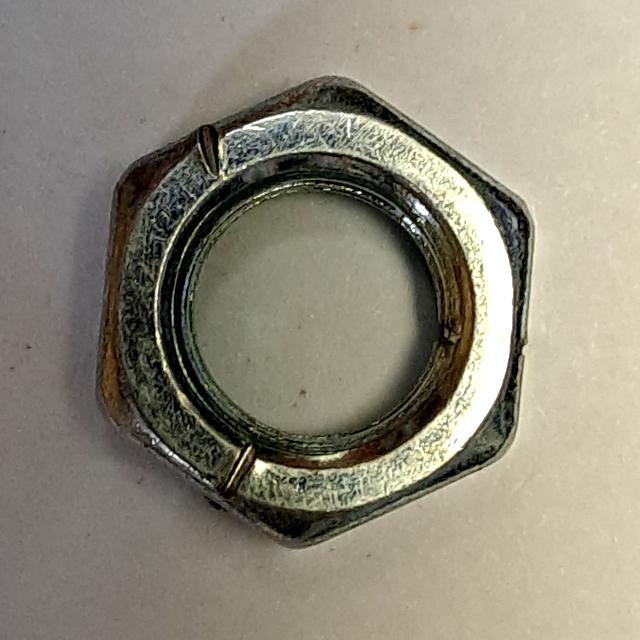Scratches: (83, 59, 550, 559)
